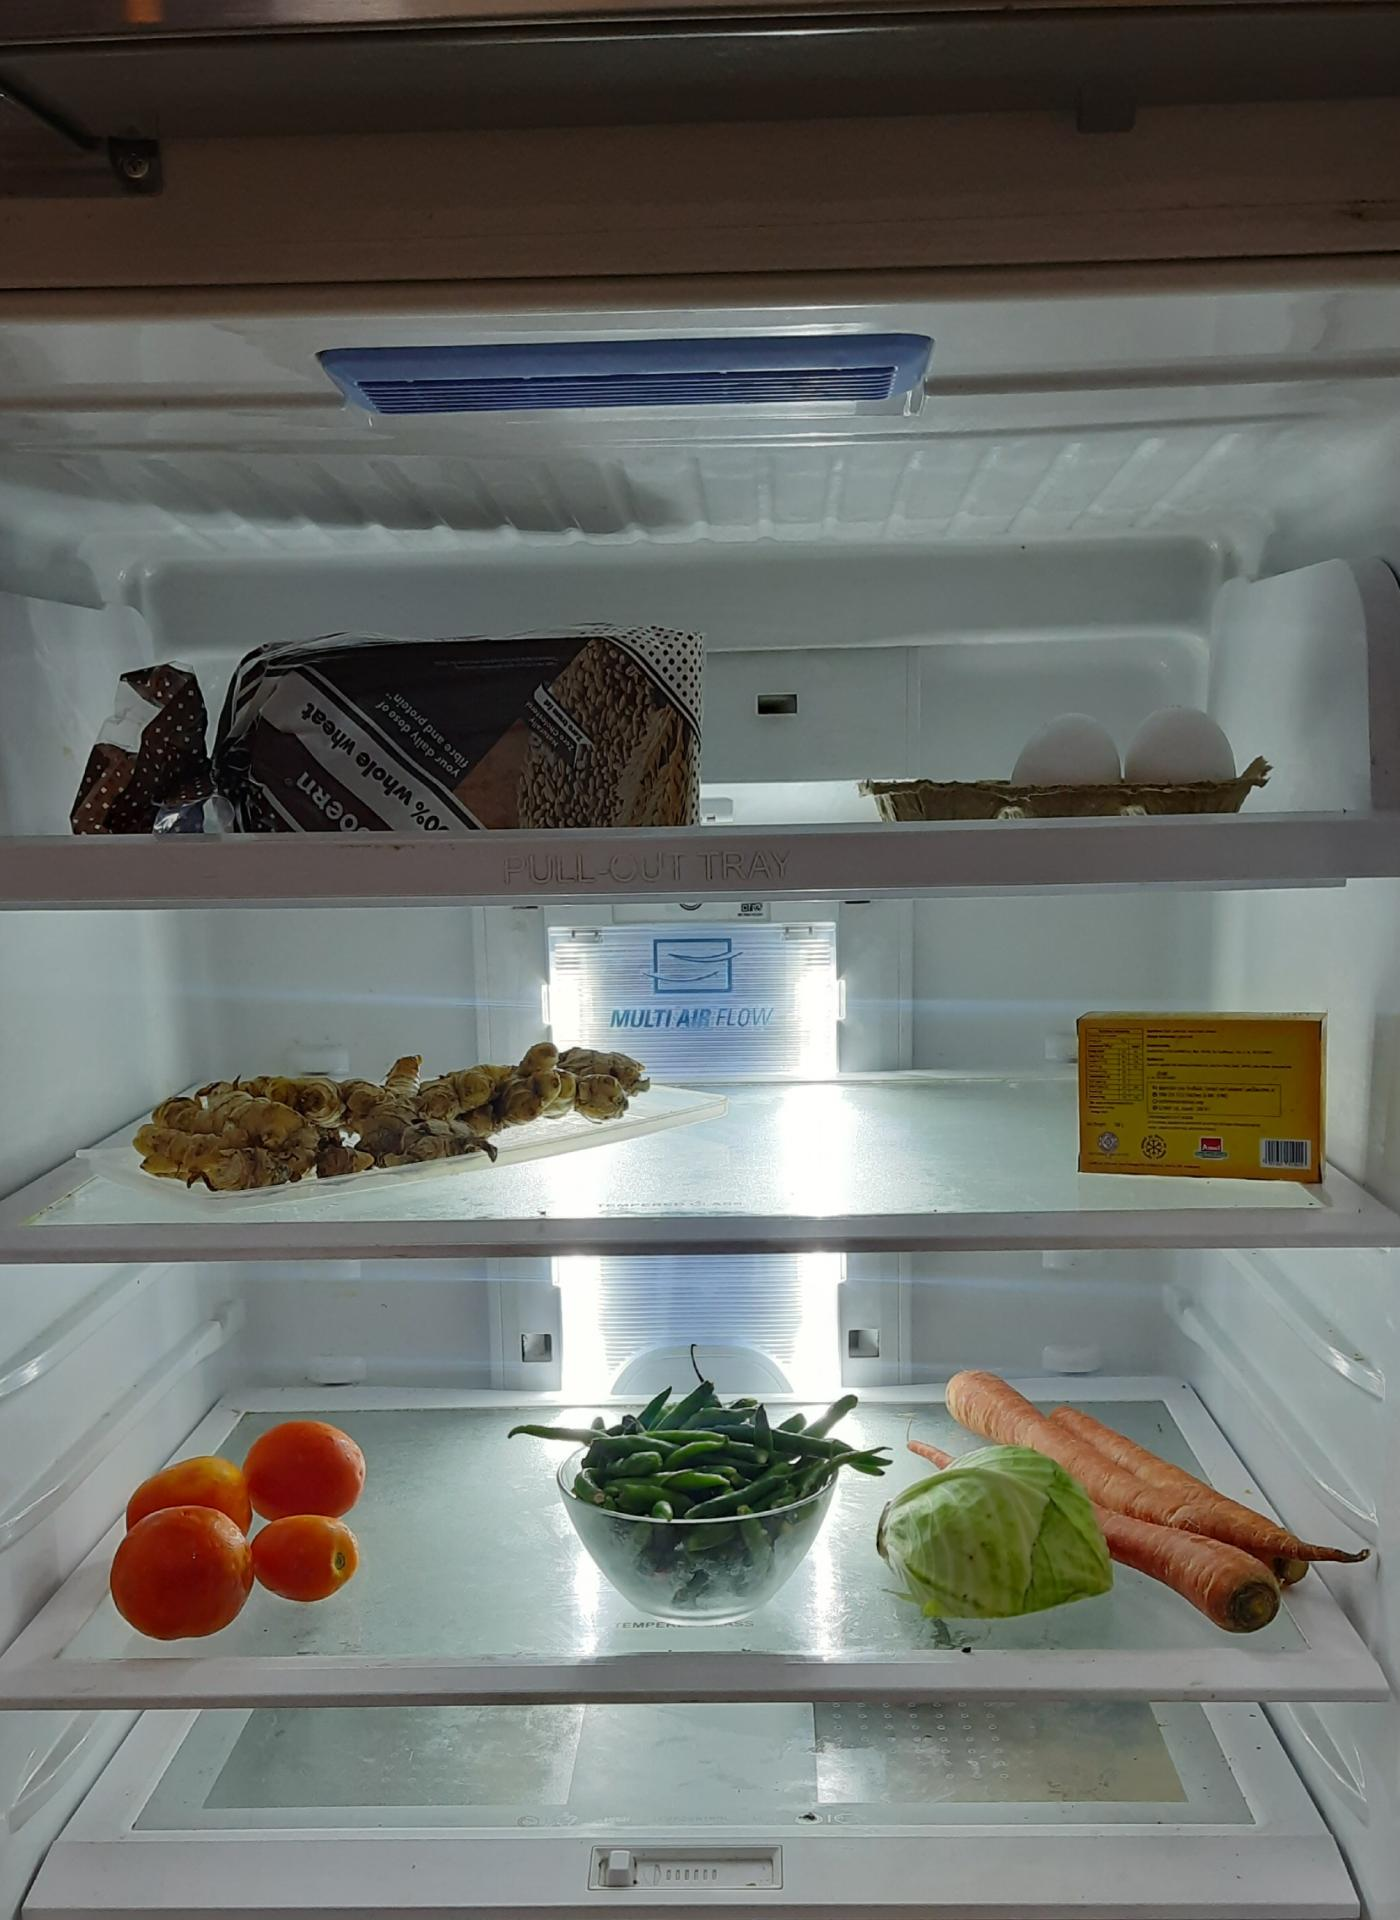bread: (85, 635, 704, 842)
butter: (1079, 1003, 1336, 1188)
cabbage: (880, 1447, 1117, 1629)
carrots: (938, 1371, 1346, 1638)
chillies: (574, 1385, 863, 1604)
egg: (1014, 704, 1255, 806)
ginger: (137, 1032, 650, 1191)
tomato: (106, 1419, 364, 1635)
